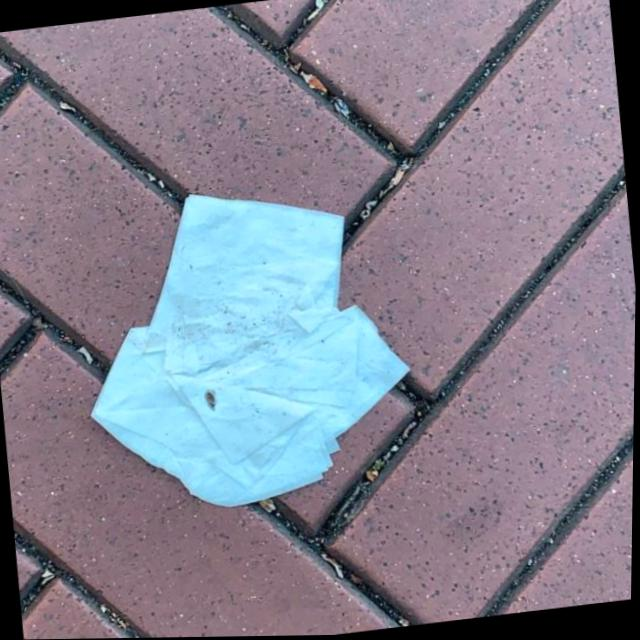Paper: (67, 178, 410, 525)
